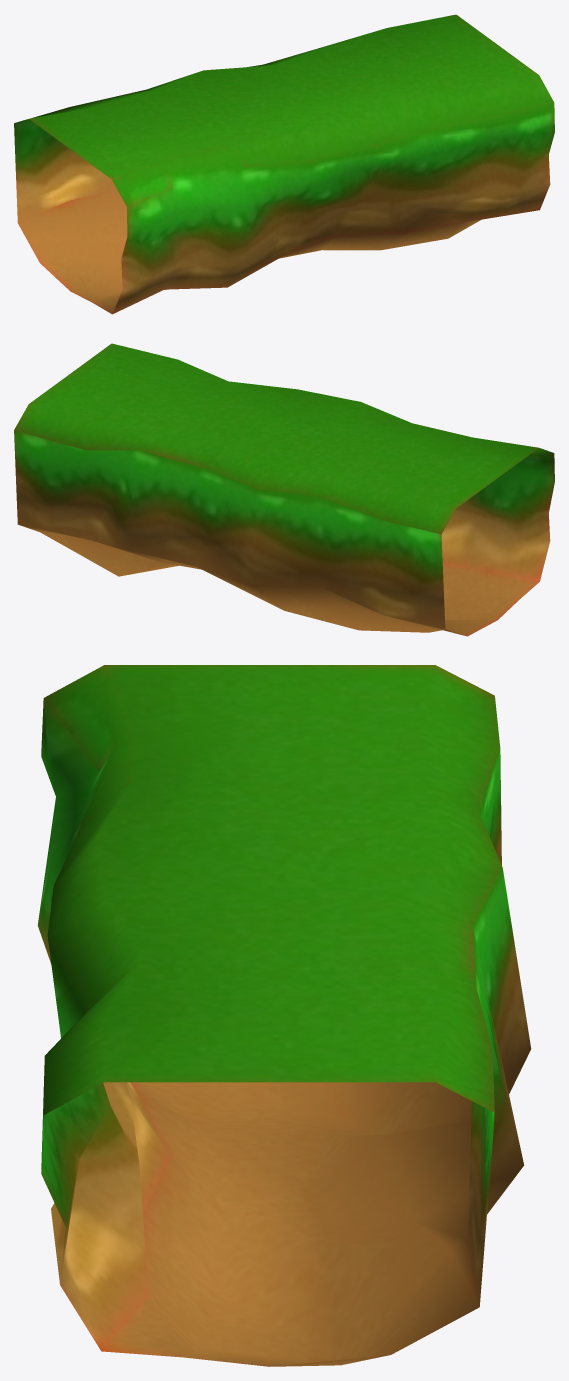
Rendered from FlatSeg.FBX.
3 views of the same model, one above another, from view 1: azimuth 30°, elevation 25°; view 2: azimuth 150°, elevation 25°; view 3: azimuth 270°, elevation 25° (orthographic). The views are drawn at different scales.
Parts seen in each view (by area): view 1: Box014; view 2: Box014; view 3: Box014.
Part boxes in pixels (bbox=[...]): Box014: bbox=[14, 14, 554, 314]; Box014: bbox=[14, 343, 554, 636]; Box014: bbox=[37, 665, 531, 1366].
Bounding box in the file's own units: 669 × 260 × 335.
